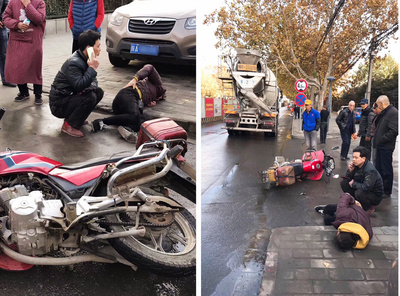fall: (310, 189, 378, 254)
